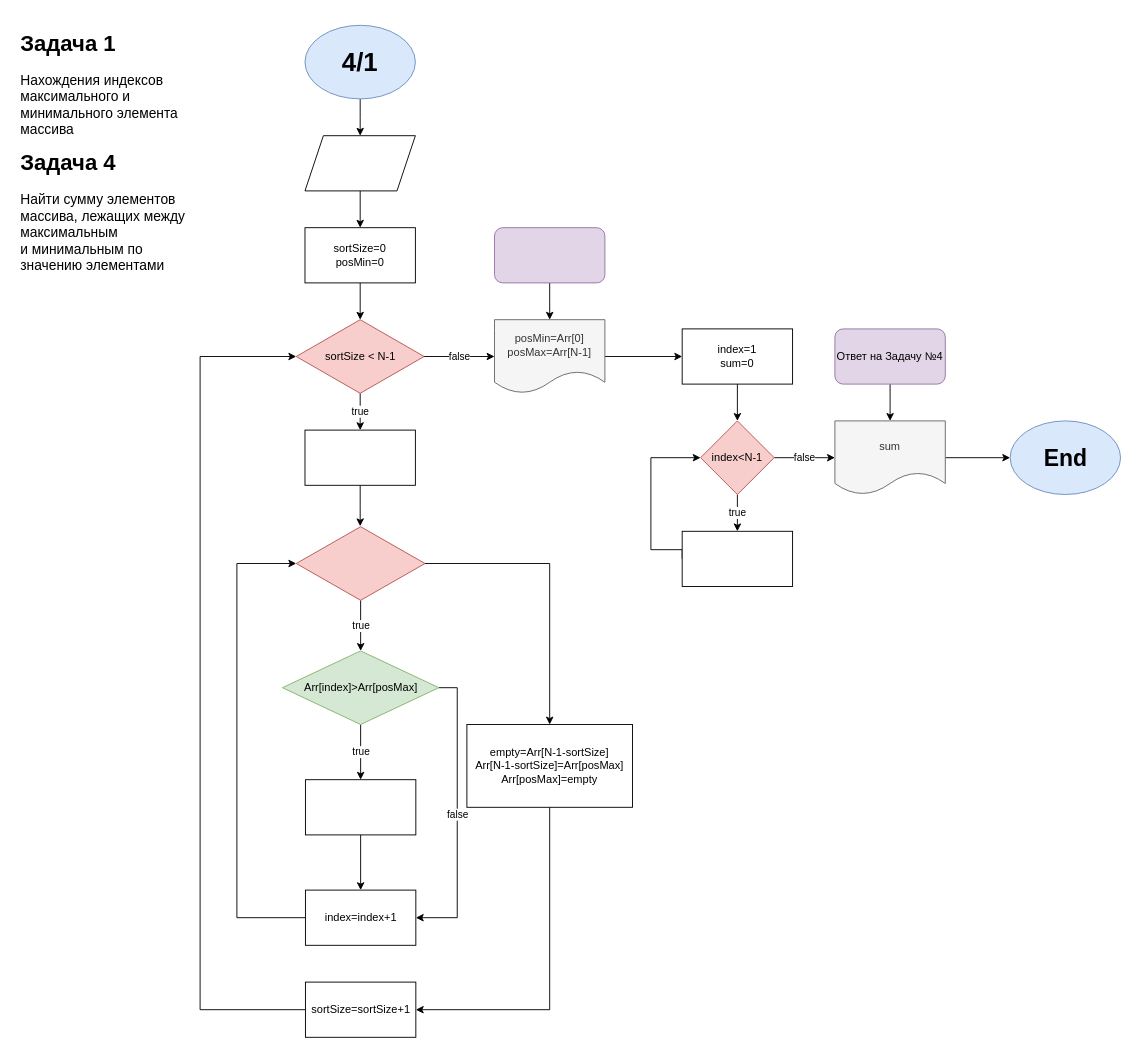
Some shapes in this 1136 by 1053 pixel diagram are drawn without their labels. The shapes that lost their labels are listed below. From the top down, each one's centre as x and y in pixels, then its label:
At (359,163): "N Arr[N]".
At (549,255): "Ответ на Задачу №1".
At (359,457): "index=0 posMax=0".
At (360,563): "index<N-sortSize".
At (737,558): "sum=sum+Arr[index] index=index+1".
At (360,807): "posMax=index".
